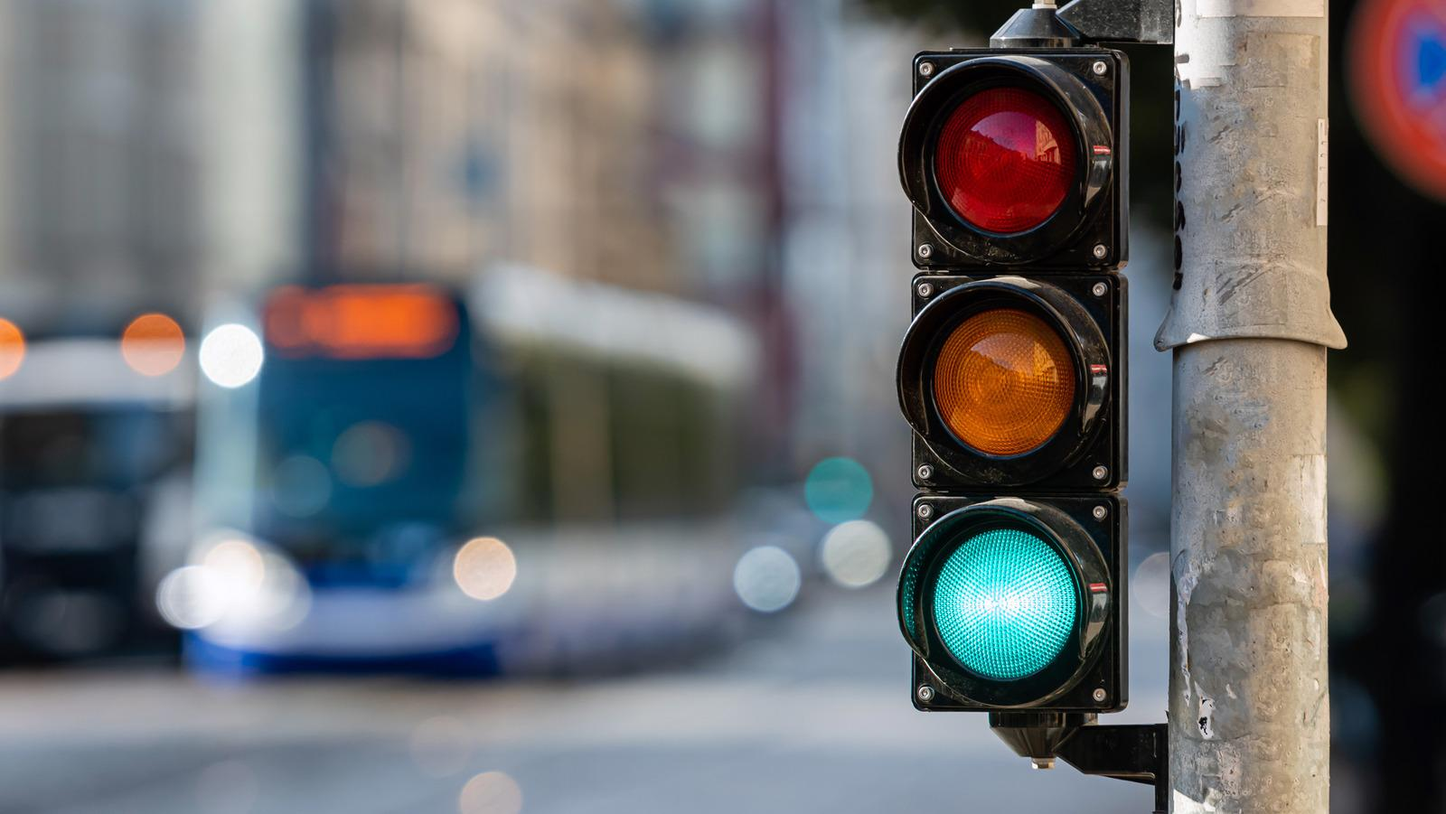traffic light: (897, 47, 1127, 726)
